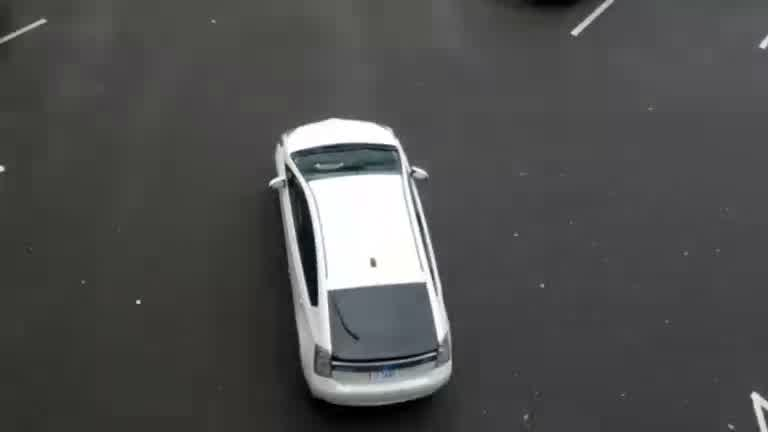car: (240, 114, 485, 407)
